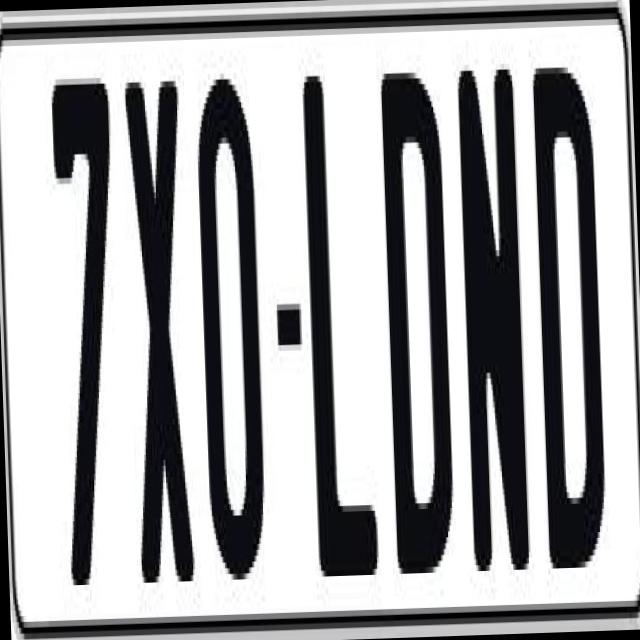0: (190, 60, 266, 586)
7: (50, 82, 126, 586)
D: (528, 54, 612, 580), (380, 53, 460, 586)
L: (302, 61, 389, 600)
N: (454, 56, 528, 594)
X: (122, 68, 198, 582)
